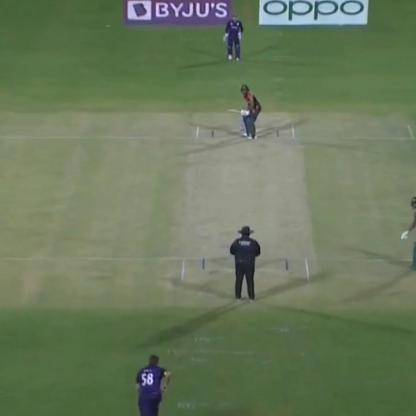bat: (223, 98, 246, 119)
pitch: (182, 125, 308, 280)
